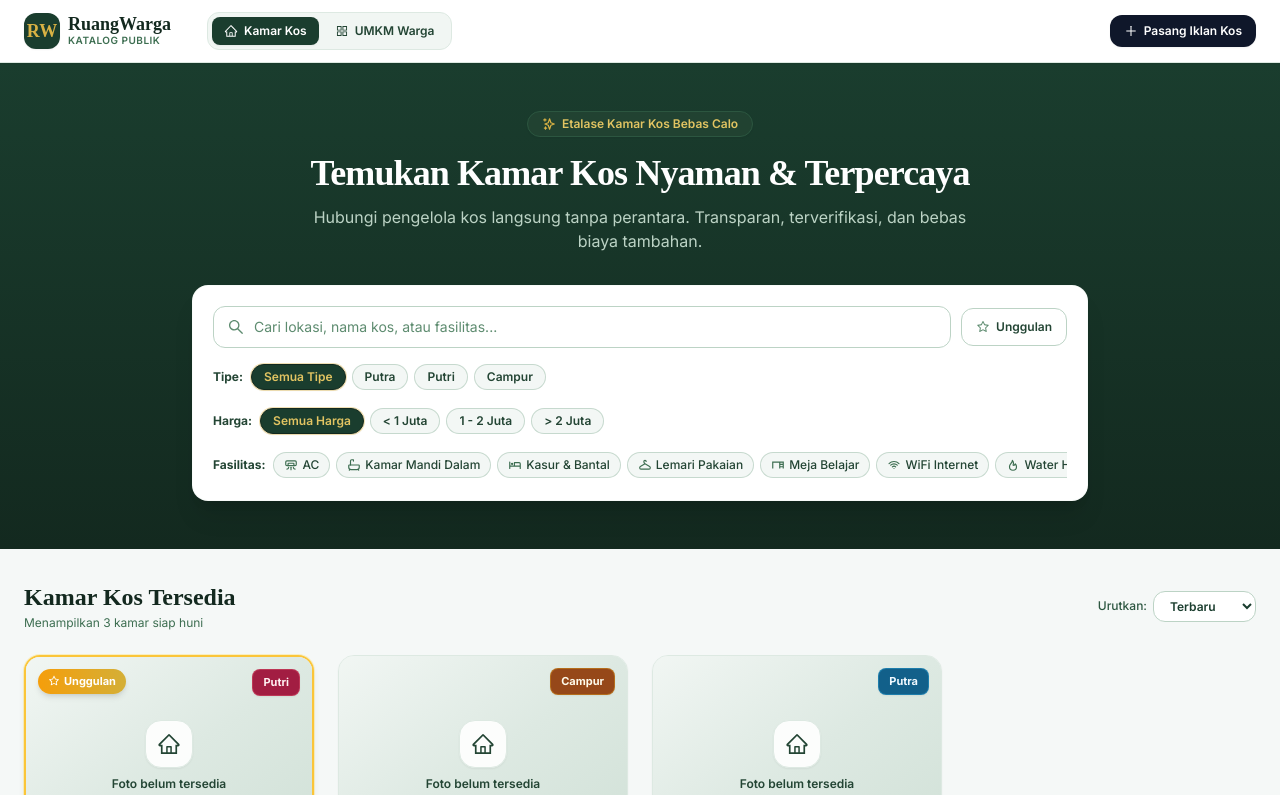
Test: RoomListingDirectory & RoomListingCard (LIST-UI-1.2) › LIST-UI-1.3: Sinkronisasi Query String URL & Filter Chips › mengklik chip tipe mengupdate filter hasil kamar kos
Klik chip Putra
Step 1. Click the button with test id "filter-type-putra" → (380, 377), box x1=352 y1=364 x2=408 y2=390
(page scrolled)
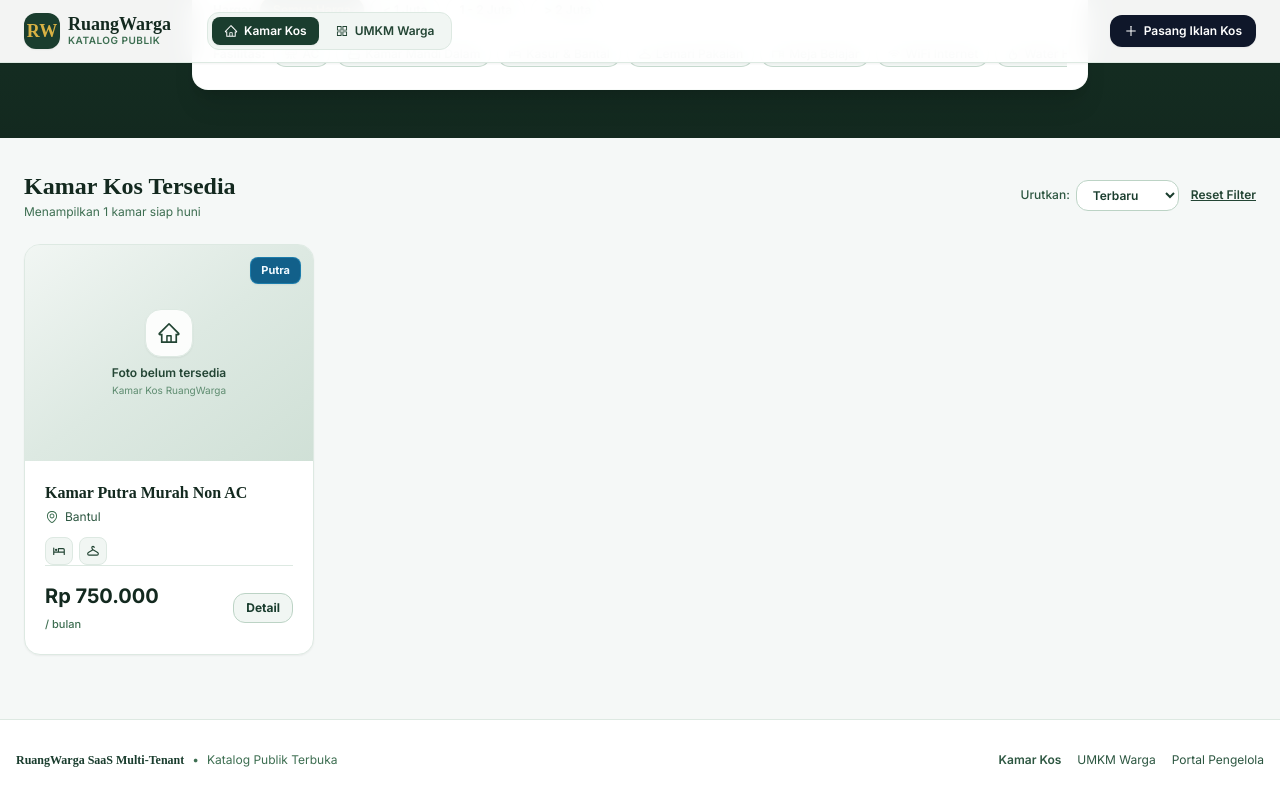
expect the link "Kamar Putra Murah Non AC" is shown: met, box x1=45 y1=484 x2=247 y2=501
expect the number of elements with test id "room-listing-card" is 1: met, box x1=24 y1=244 x2=314 y2=655
